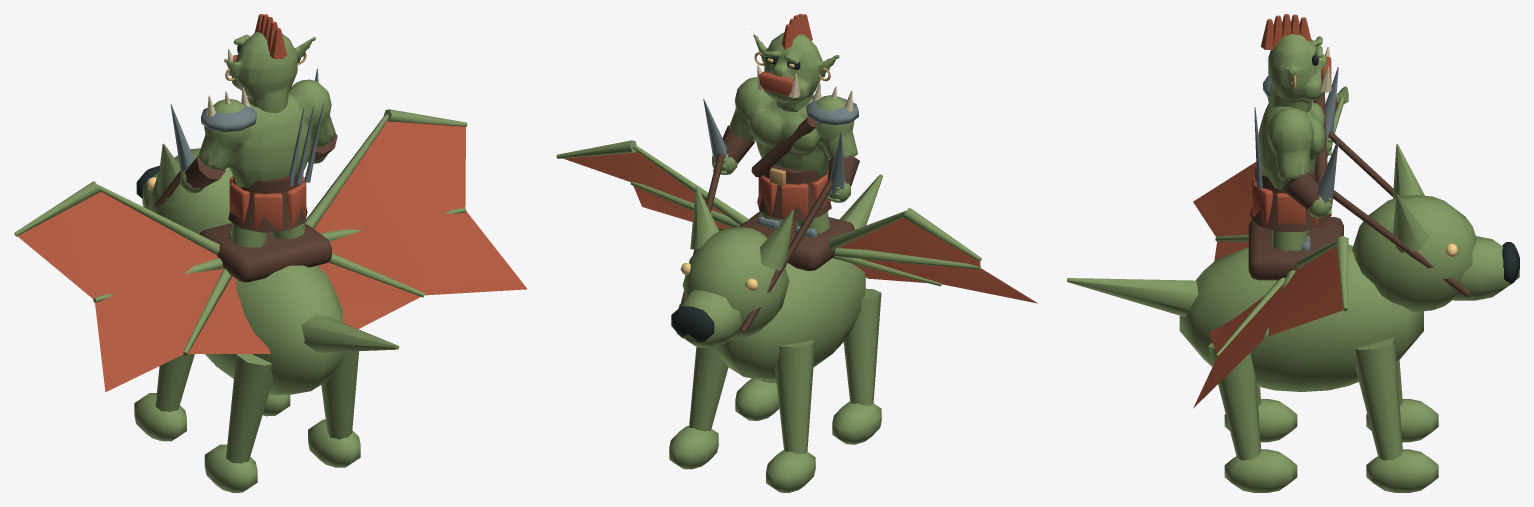
File: host_05.glb
The picture shows the model from 3 angles, left to right: view 1: azimuth 30°, elevation 25°; view 2: azimuth 150°, elevation 25°; view 3: azimuth 270°, elevation 25°; orthographic projection. The views are drawn at different scales.
Visible parts, largest first — view 1: mesh_Skin.002, mesh_Cloth.002, mesh_Cloth.001, mesh_Leather.002, mesh_Skin.003, mesh_Skin.006, mesh_Skin.008, mesh_Skin.005, mesh_Skin.009, mesh_Cloth.004, mesh_Iron.002, mesh_Skin.004; view 2: mesh_Skin.002, mesh_Leather.002, mesh_Cloth.001, mesh_Skin.005, mesh_Skin.003, mesh_Skin.007, mesh_Cloth.002, mesh_Skin.008, mesh_Cloth.004, mesh_Skin.009, mesh_Iron.002, mesh_Skin.006 (+2 smaller); view 3: mesh_Skin.002, mesh_Leather.002, mesh_Cloth.002, mesh_Skin.007, mesh_Skin.006, mesh_Cloth.001, mesh_Cloth.004, mesh_Iron.002, mesh_Skin.009, mesh_Skin.005, mesh_Skin.003, mesh_Dark.004 (+2 smaller).
Part boxes in pixels (<box>): mesh_Skin.002: <box>142,32,399,395</box>; mesh_Cloth.002: <box>314,120,527,329</box>; mesh_Cloth.001: <box>17,191,270,392</box>; mesh_Leather.002: <box>154,133,337,282</box>; mesh_Skin.003: <box>204,354,273,492</box>; mesh_Skin.006: <box>308,351,360,467</box>; mesh_Skin.008: <box>14,181,232,355</box>; mesh_Skin.005: <box>134,354,194,441</box>; mesh_Skin.009: <box>305,109,467,297</box>; mesh_Cloth.004: <box>229,14,306,229</box>; mesh_Iron.002: <box>170,68,323,186</box>; mesh_Skin.004: <box>231,223,268,247</box>; mesh_Skin.002: <box>676,29,882,380</box>; mesh_Leather.002: <box>681,117,859,333</box>; mesh_Cloth.001: <box>839,218,1037,303</box>; mesh_Skin.005: <box>766,339,815,492</box>; mesh_Skin.003: <box>832,288,881,444</box>; mesh_Skin.007: <box>669,347,728,469</box>; mesh_Cloth.002: <box>563,151,731,228</box>; mesh_Skin.008: <box>828,208,981,286</box>; mesh_Cloth.004: <box>758,14,830,217</box>; mesh_Skin.009: <box>556,140,749,231</box>; mesh_Iron.002: <box>703,97,858,196</box>; mesh_Skin.006: <box>735,378,779,420</box>; mesh_Skin.002: <box>1067,34,1519,391</box>; mesh_Leather.002: <box>1248,92,1470,296</box>; mesh_Cloth.002: <box>1193,245,1342,408</box>; mesh_Skin.007: <box>1355,337,1438,492</box>; mesh_Skin.006: <box>1208,343,1297,492</box>; mesh_Cloth.001: <box>1193,96,1337,261</box>; mesh_Cloth.004: <box>1252,14,1331,226</box>; mesh_Iron.002: <box>1254,67,1338,205</box>; mesh_Skin.009: <box>1215,236,1348,357</box>; mesh_Skin.005: <box>1366,360,1438,442</box>; mesh_Skin.003: <box>1224,386,1297,442</box>; mesh_Dark.004: <box>1312,45,1519,284</box>.
Bounding box in the file's own units: 2.09 × 1.98 × 1.8.
